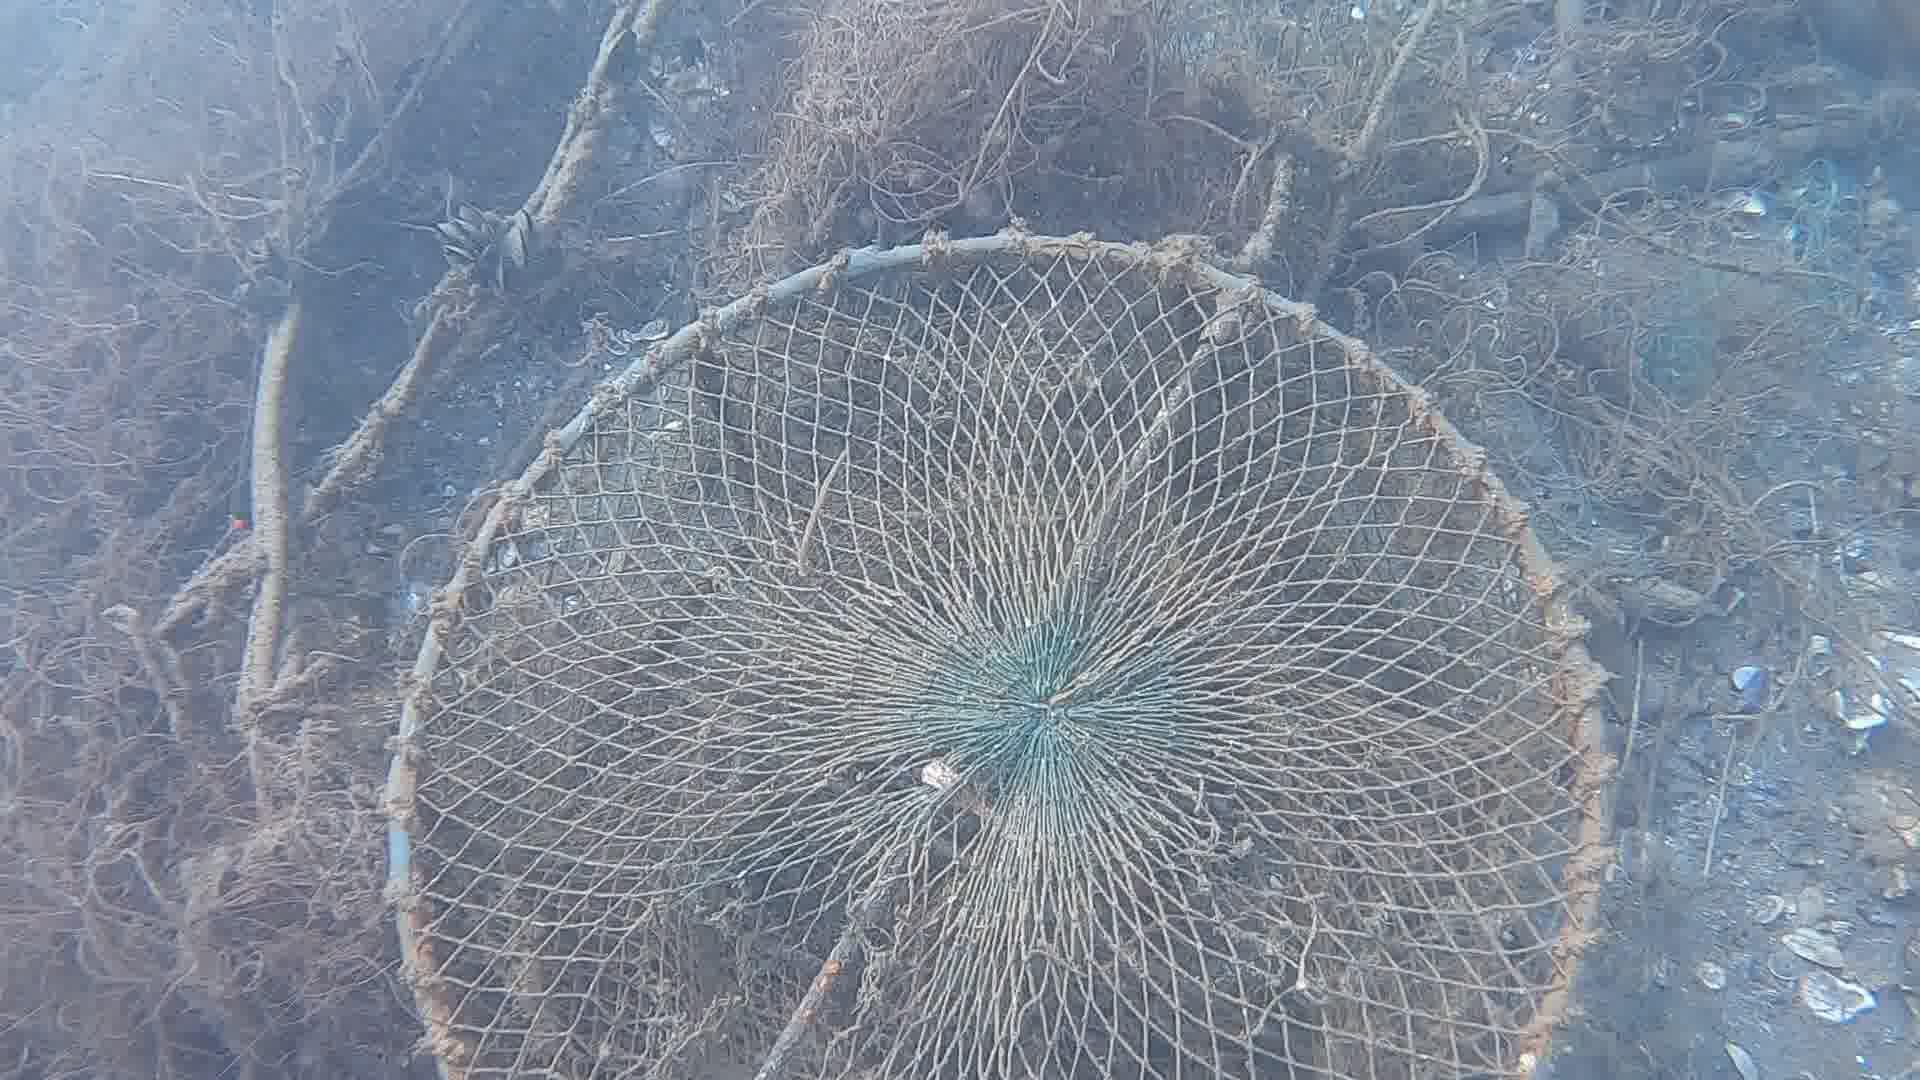circular fish trap: (377, 227, 1626, 1080)
